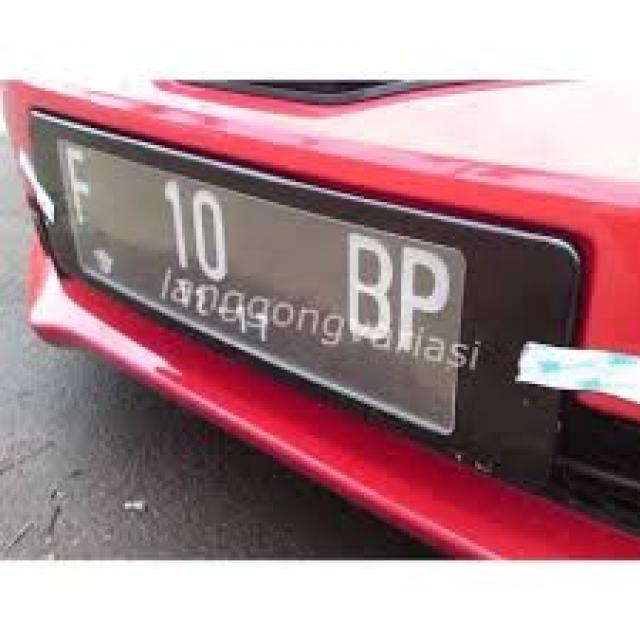lisence-plate: (0, 61, 616, 506)
